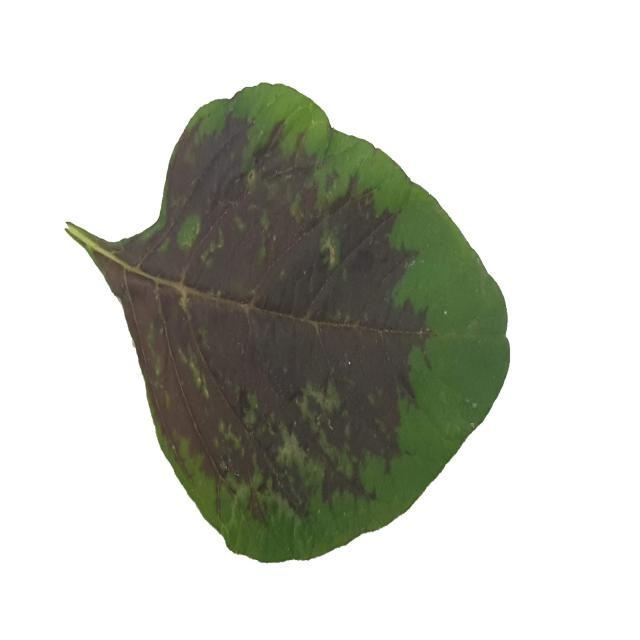Medicinal-Arive Dantu: (66, 82, 511, 561)
